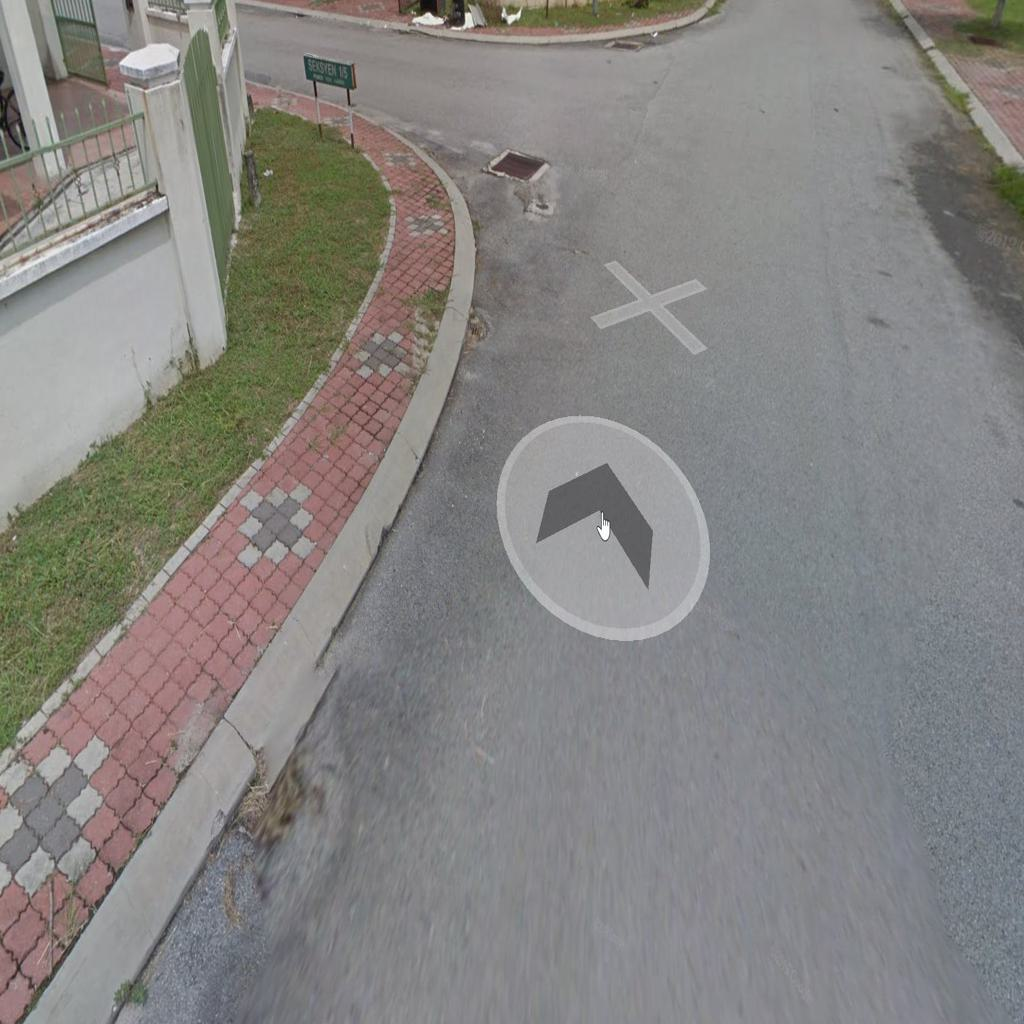Junction: (301, 11, 736, 318)
